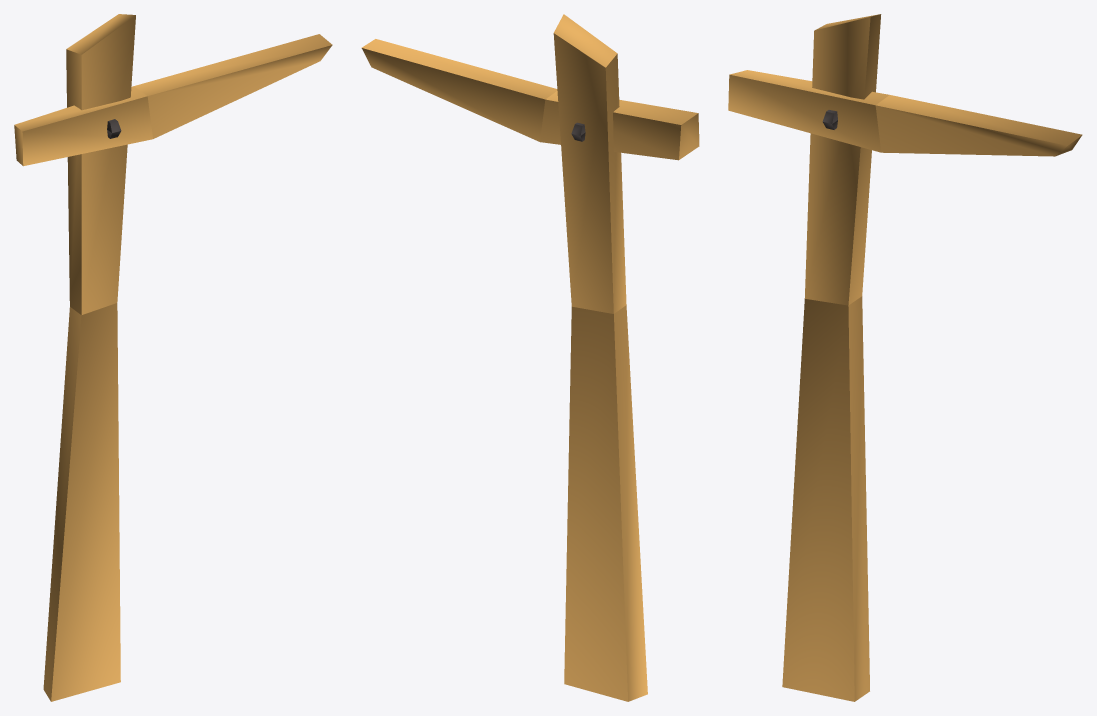
Rendered from Sign_Post.fbx.
3 renders of one model, left to right at view 1: azimuth 30°, elevation 25°; view 2: azimuth 150°, elevation 25°; view 3: azimuth 330°, elevation 25°, orthographic. The views are drawn at different scales.
Parts seen in each view (by area): view 1: Sign_Post; view 2: Sign_Post; view 3: Sign_Post.
Part boxes in pixels (x1,y1,x2,y2): Sign_Post: (14, 14, 332, 701); Sign_Post: (361, 14, 699, 701); Sign_Post: (728, 14, 1082, 701).
Bounding box in the file's own units: 116 × 232 × 19.11.
